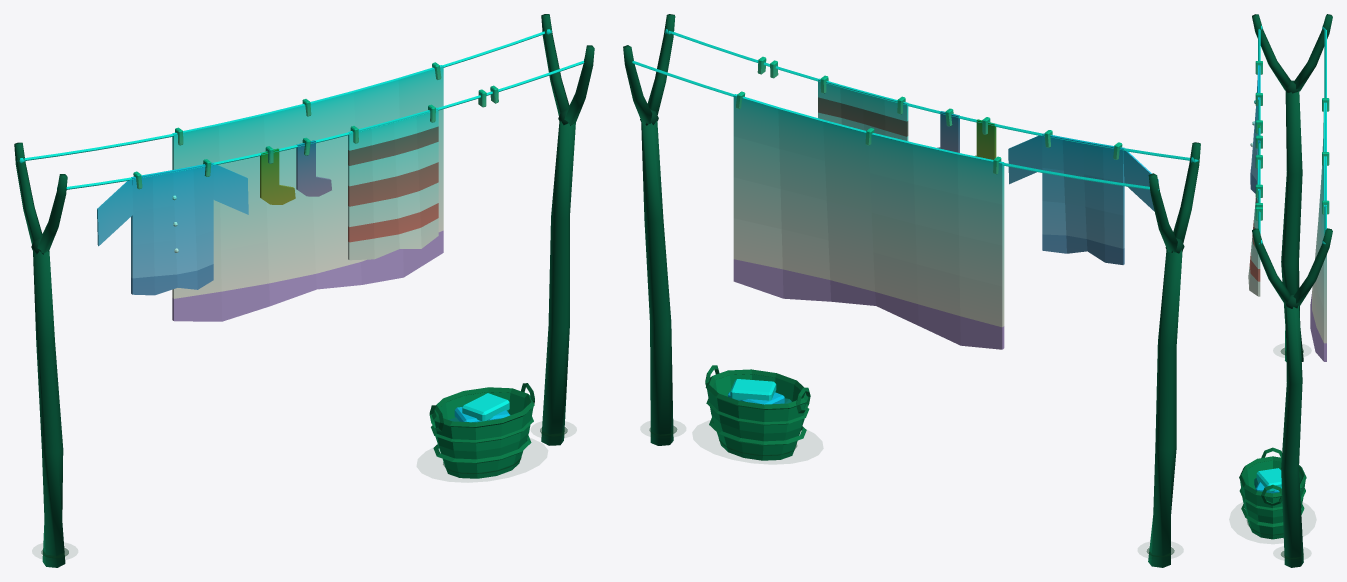
Rendered from washing_line.glb.
3 views of the same model, side by side, from view 1: azimuth 30°, elevation 25°; view 2: azimuth 150°, elevation 25°; view 3: azimuth 270°, elevation 25° (orthographic). The views are drawn at different scales.
Visible parts, largest first — view 1: washing_line; view 2: washing_line; view 3: washing_line.
Part boxes in pixels (left/top/right/bottom): washing_line: left=14, top=14, right=594, bottom=567; washing_line: left=623, top=14, right=1200, bottom=567; washing_line: left=1239, top=14, right=1332, bottom=567.
Size of the model in its own units: 2.68 by 1.93 by 0.5331.
